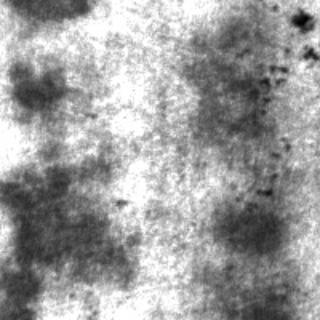inclusion: (280, 4, 316, 64)
patches: (0, 156, 132, 310), (183, 2, 283, 154), (208, 194, 290, 258), (229, 264, 299, 316), (7, 58, 69, 112), (4, 1, 94, 26)
